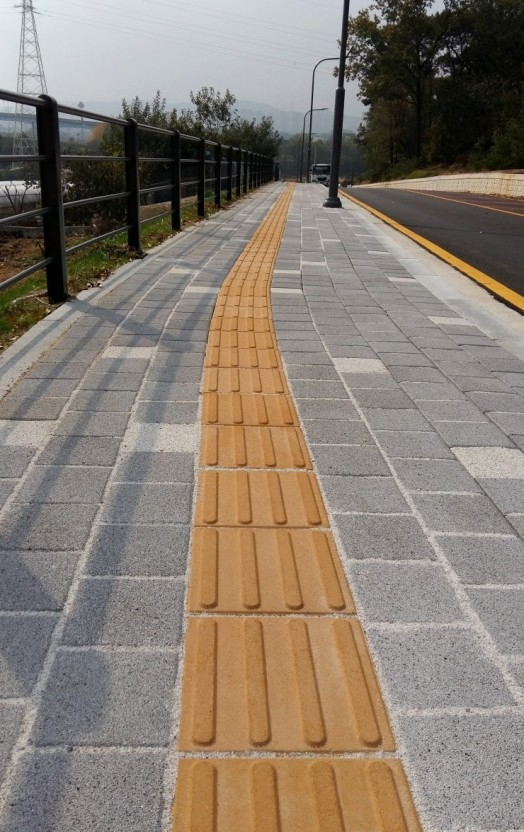guideBlock: (192, 610, 362, 759), (180, 756, 411, 832), (176, 528, 354, 606), (190, 473, 328, 534), (200, 421, 310, 475), (199, 387, 311, 438), (209, 361, 280, 399), (207, 333, 271, 367)
